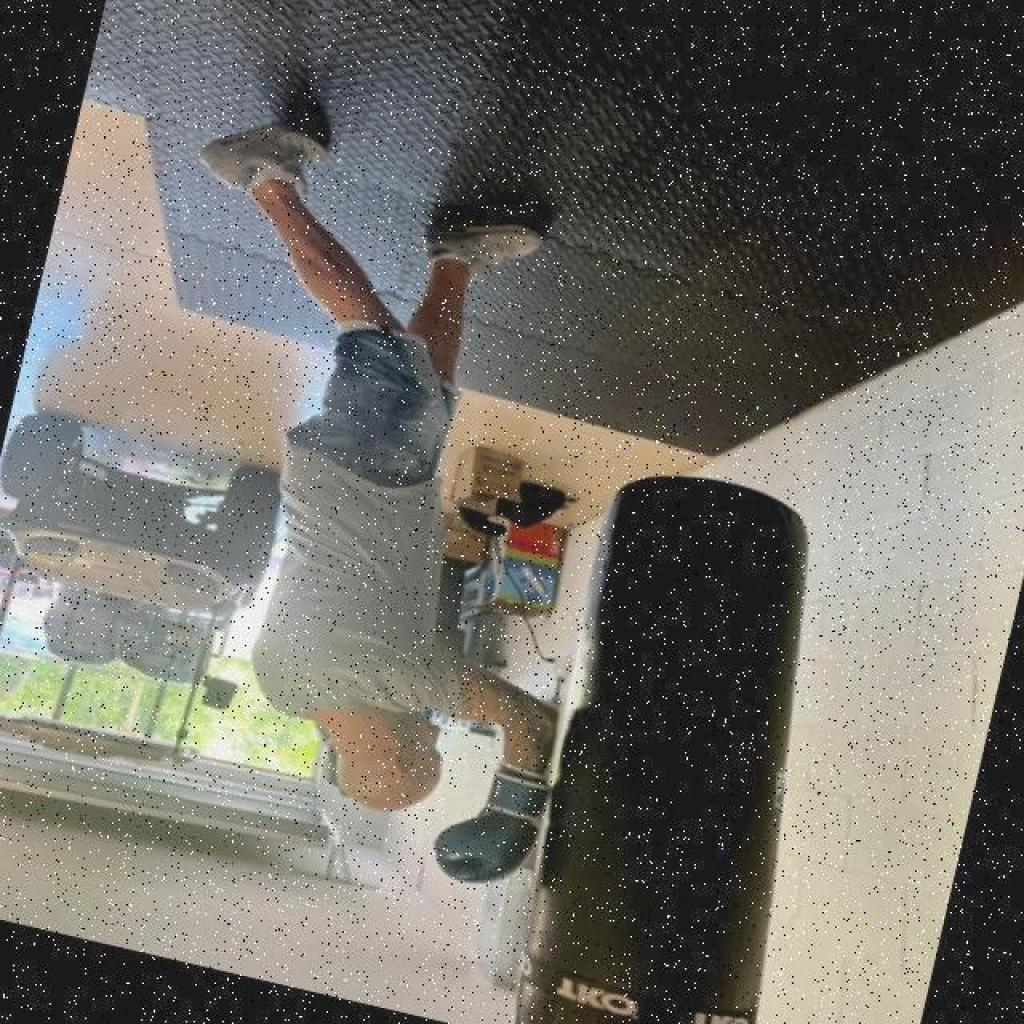uppercut: (186, 566, 603, 933)
